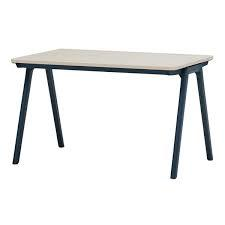desk: (7, 31, 217, 185)
